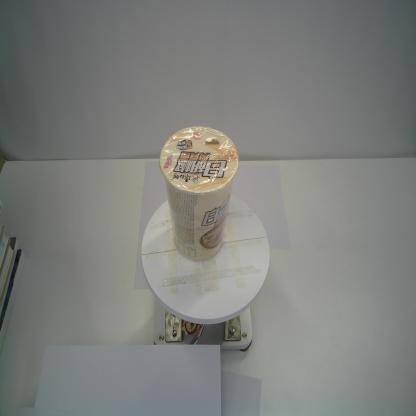Instant Noodles: (158, 124, 241, 262)
